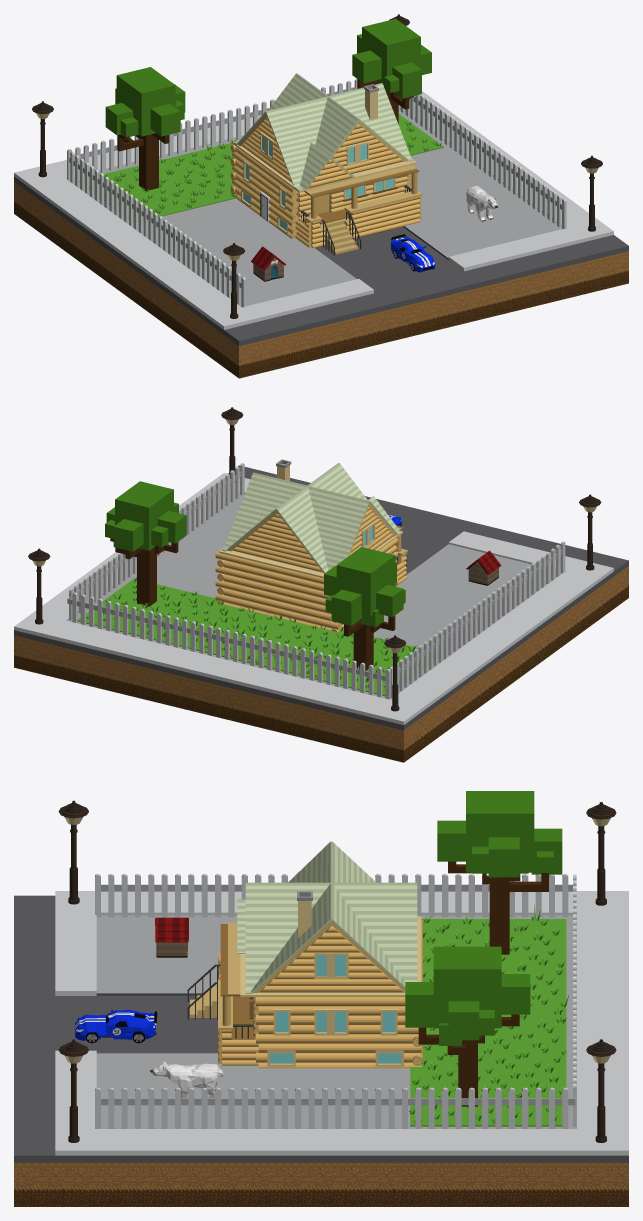
The picture shows the model from 3 angles, top to bottom: view 1: azimuth 30°, elevation 25°; view 2: azimuth 150°, elevation 25°; view 3: azimuth 270°, elevation 25°; orthographic projection. The views are drawn at different scales.
Visible parts, largest first — view 1: Cube.004, Cube.1516, VEHICLES_RACING_CAR, OBJRANDOM_DOGHOUSE, ANIMAL_OSO_POLAR; view 2: Cube.004, Cube.1516, OBJRANDOM_DOGHOUSE; view 3: Cube.004, Cube.1516, VEHICLES_RACING_CAR, ANIMAL_OSO_POLAR, OBJRANDOM_DOGHOUSE.
Boxes of the visible parts, box(x1,y1,x2,y2) form: Cube.004: box(14, 14, 628, 378); Cube.1516: box(230, 73, 422, 255); VEHICLES_RACING_CAR: box(390, 234, 435, 272); OBJRANDOM_DOGHOUSE: box(251, 246, 285, 281); ANIMAL_OSO_POLAR: box(466, 185, 498, 221); Cube.004: box(14, 407, 628, 762); Cube.1516: box(215, 459, 407, 632); OBJRANDOM_DOGHOUSE: box(466, 550, 501, 585); Cube.004: box(14, 791, 628, 1206); Cube.1516: box(187, 841, 422, 1068); VEHICLES_RACING_CAR: box(74, 1009, 157, 1043); ANIMAL_OSO_POLAR: box(150, 1061, 223, 1098); OBJRANDOM_DOGHOUSE: box(155, 917, 188, 957).
Size of the model in its own units: 4000 by 1599 by 4000.
41 materials, 4 textured.
